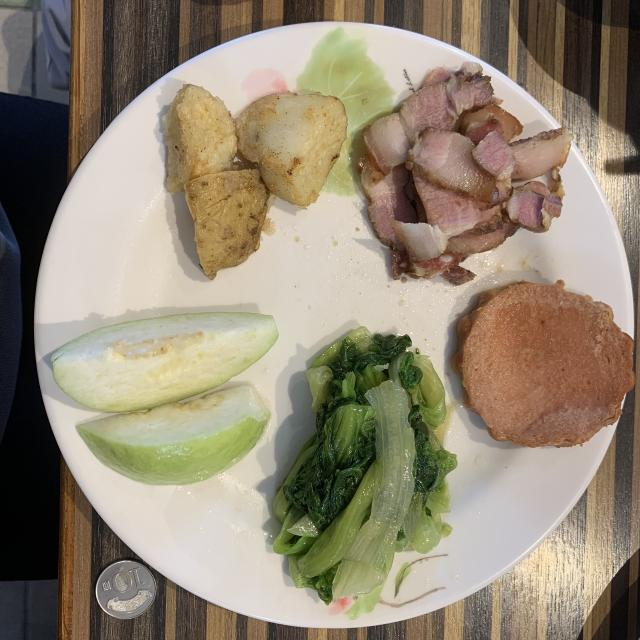Spam: (461, 282, 635, 448)
coin: (95, 559, 156, 619)
fried potato: (162, 84, 348, 279)
grilled pork: (359, 61, 571, 284)
guava -sliced-: (51, 312, 279, 485)
mustard greens: (274, 328, 458, 618)
